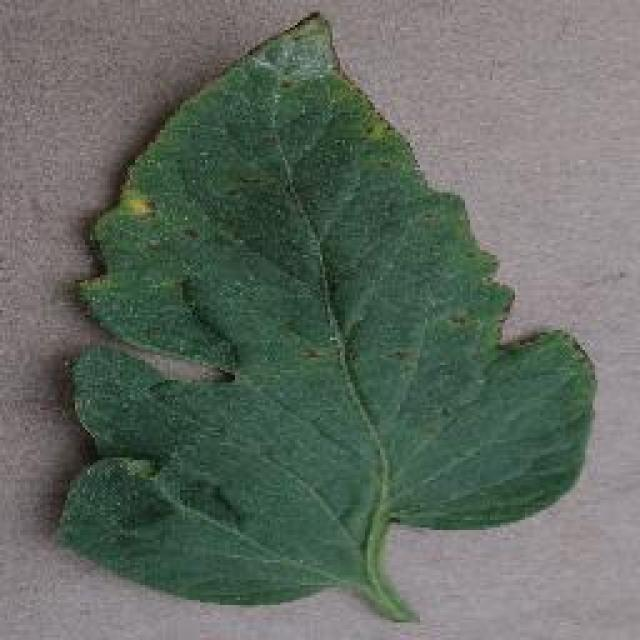Tomato___Bacterial_spot: (46, 12, 603, 634)
